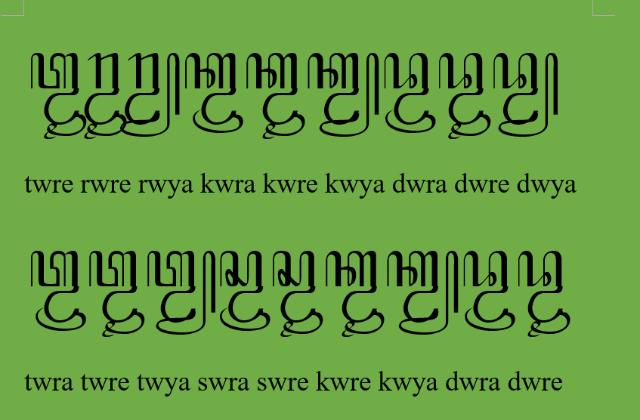dwr: (462, 250, 516, 332), (384, 52, 436, 134)
dwre: (438, 52, 490, 140), (518, 250, 570, 338)
dwy: (494, 52, 558, 138)
kwr: (184, 52, 243, 134)
kwre: (324, 250, 386, 337), (245, 52, 305, 140)
kwy: (387, 249, 459, 335), (307, 53, 379, 137)
rwre: (84, 52, 126, 140)
rwy: (121, 53, 181, 137)
swr: (220, 250, 270, 332)
swre: (272, 250, 322, 337)
twr: (29, 250, 86, 332)
twre: (31, 52, 88, 140), (89, 250, 145, 338)
twy: (147, 250, 216, 336)
